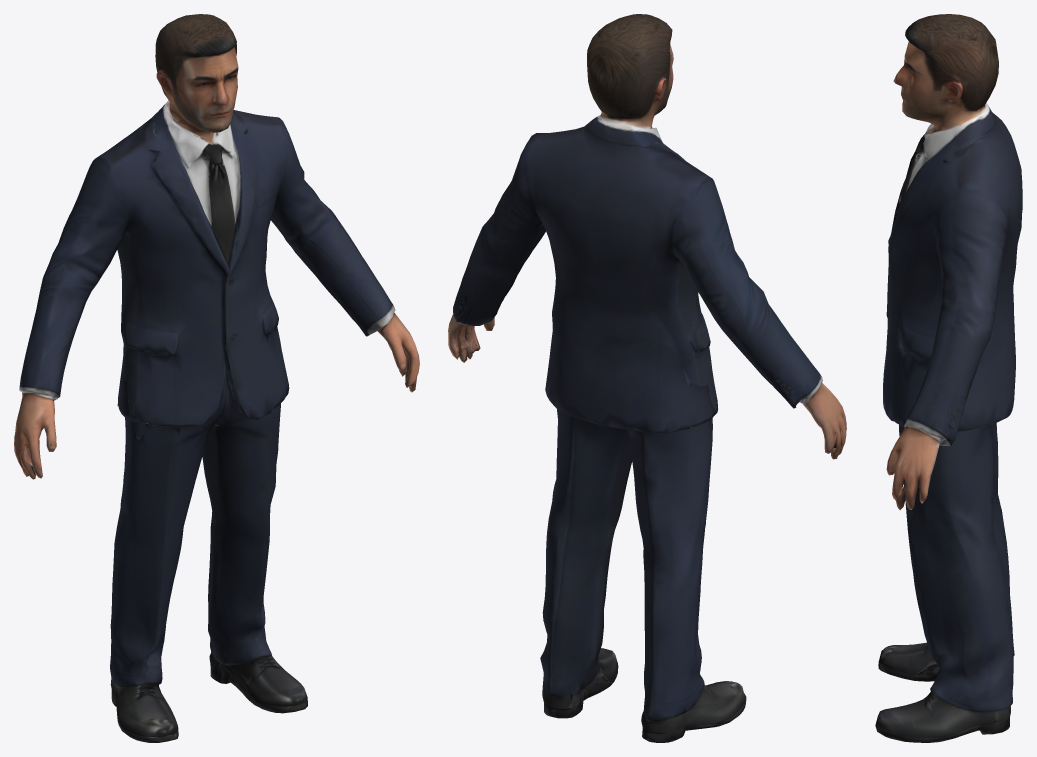
File: combined.glb
3 views of the same model, side by side, from view 1: azimuth 30°, elevation 25°; view 2: azimuth 150°, elevation 25°; view 3: azimuth 270°, elevation 25° (orthographic).
Bounding box in the file's own units: 1.2 × 2 × 0.3911.
1 material, 1 textured.
